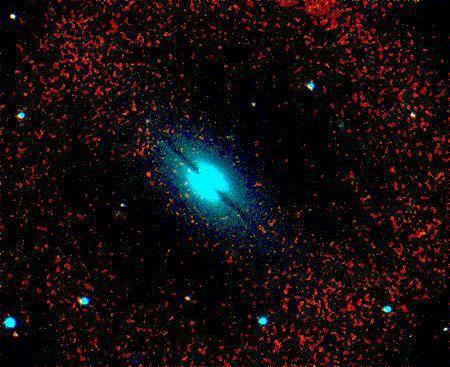star: (131, 162, 161, 192)
